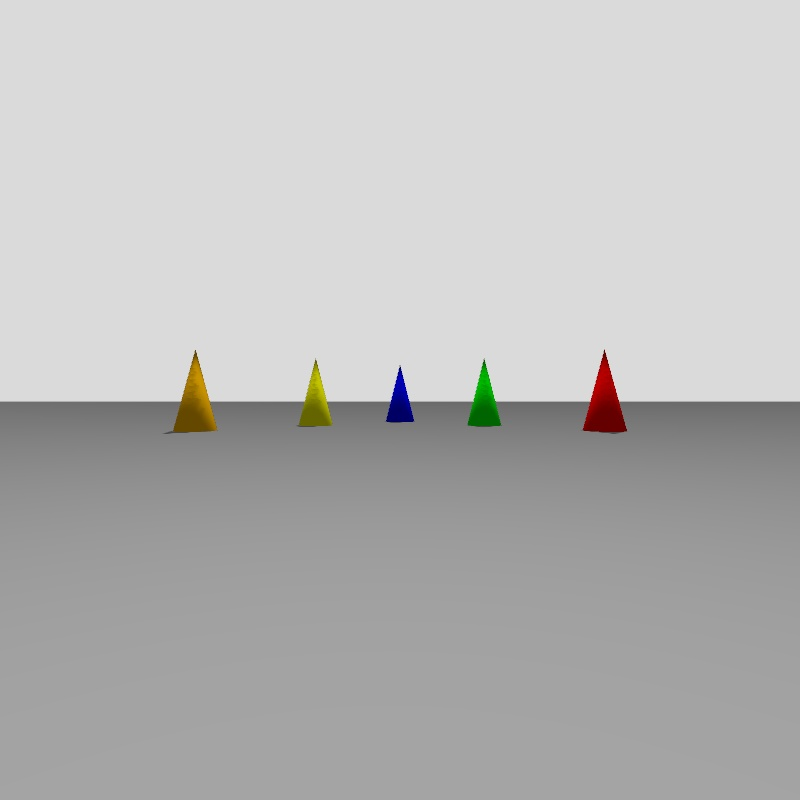Blue_cone: (387, 367, 413, 421)
Green_cone: (469, 360, 501, 425)
Orange_cone: (173, 351, 216, 431)
Red_cone: (584, 351, 626, 430)
Yellow_cone: (298, 360, 331, 425)
